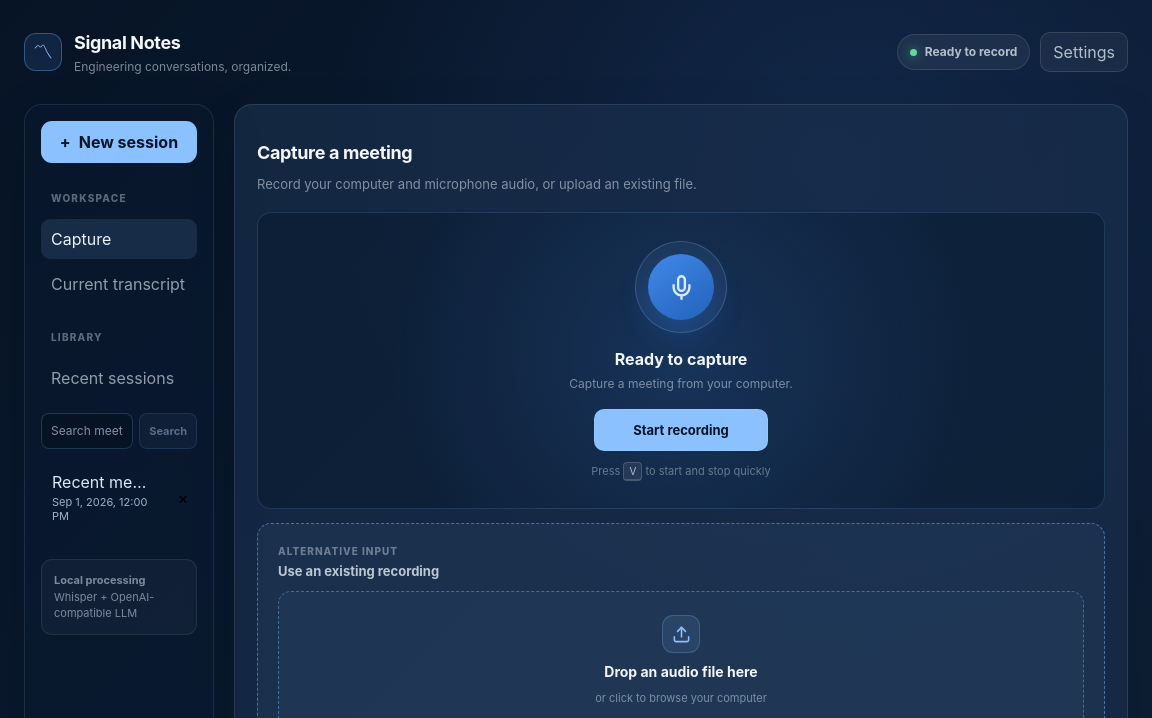
App live transcript editor › renders backend search results, opens them, and restores history when cleared
This screenshot has width=1152, height=718.
Expected: the button "Recent meeting Sep 1, 2026, 12:00 PM" is shown, 41,462 -> 165,533
In the field named "Search saved meetings": (87, 431) 41,413 -> 133,449, type "architecture"
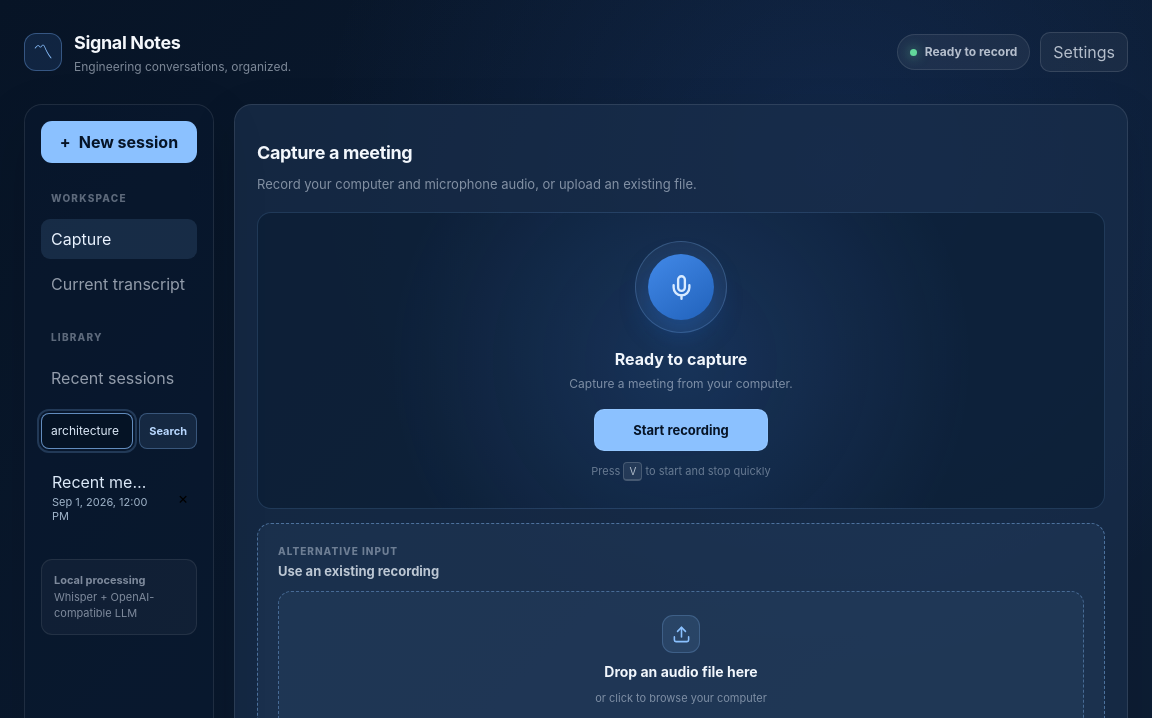
Click the button "Search": (168, 431) 139,413 -> 197,449
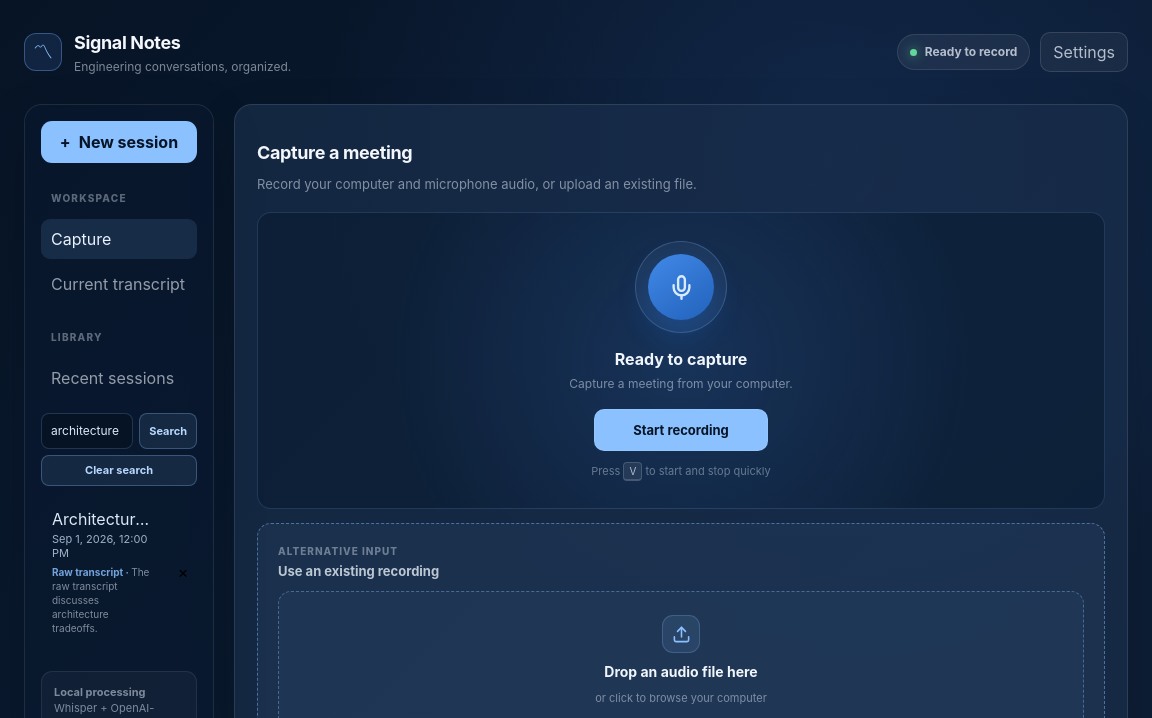
Expected: the text "Raw transcript ·" is shown, 52,566 -> 131,578
Expected: the text "The raw transcript discusses architecture tradeoffs." is shown, 52,566 -> 149,634
Click the button "Architecture review": (103, 572) 41,498 -> 165,644
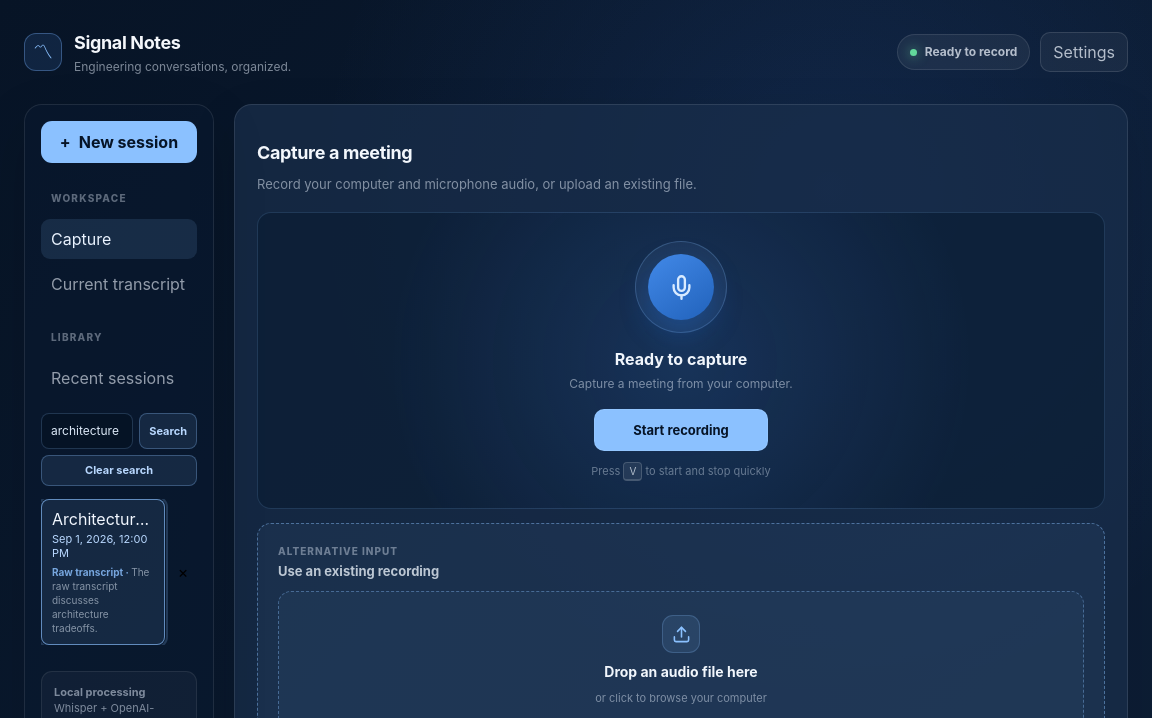
Click the button "Clear search": (119, 470) 41,455 -> 197,486
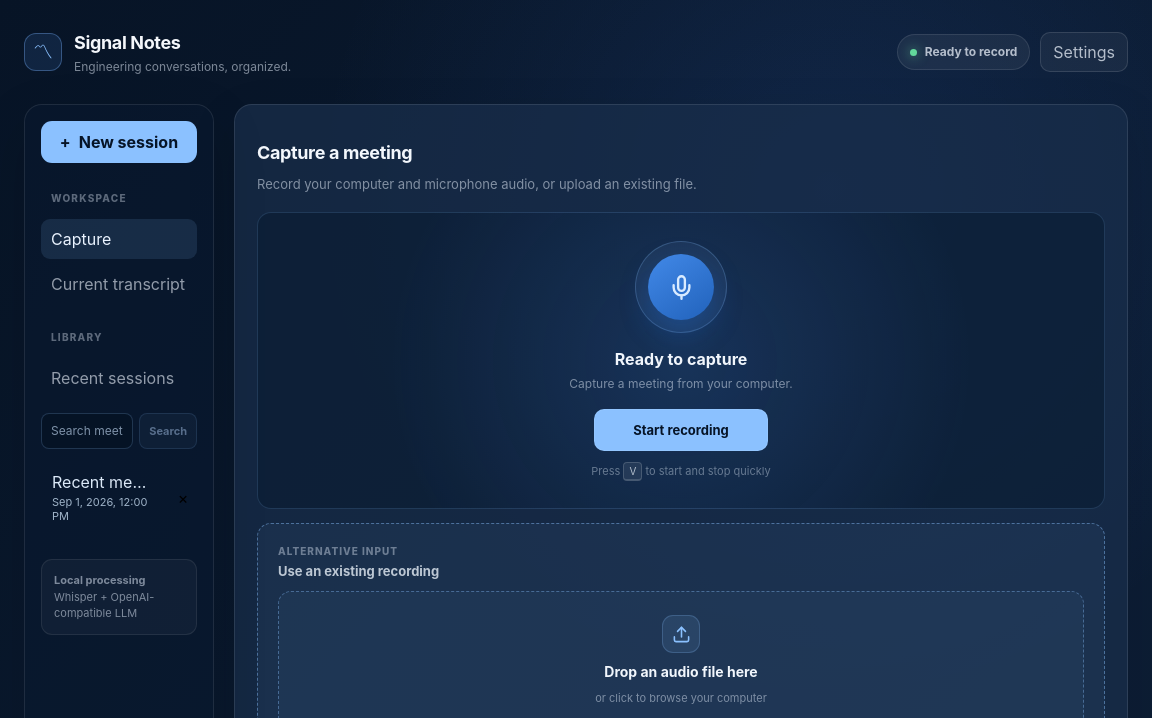
Expected: the button "Recent meeting Sep 1, 2026, 12:00 PM" is shown, 41,462 -> 165,533
